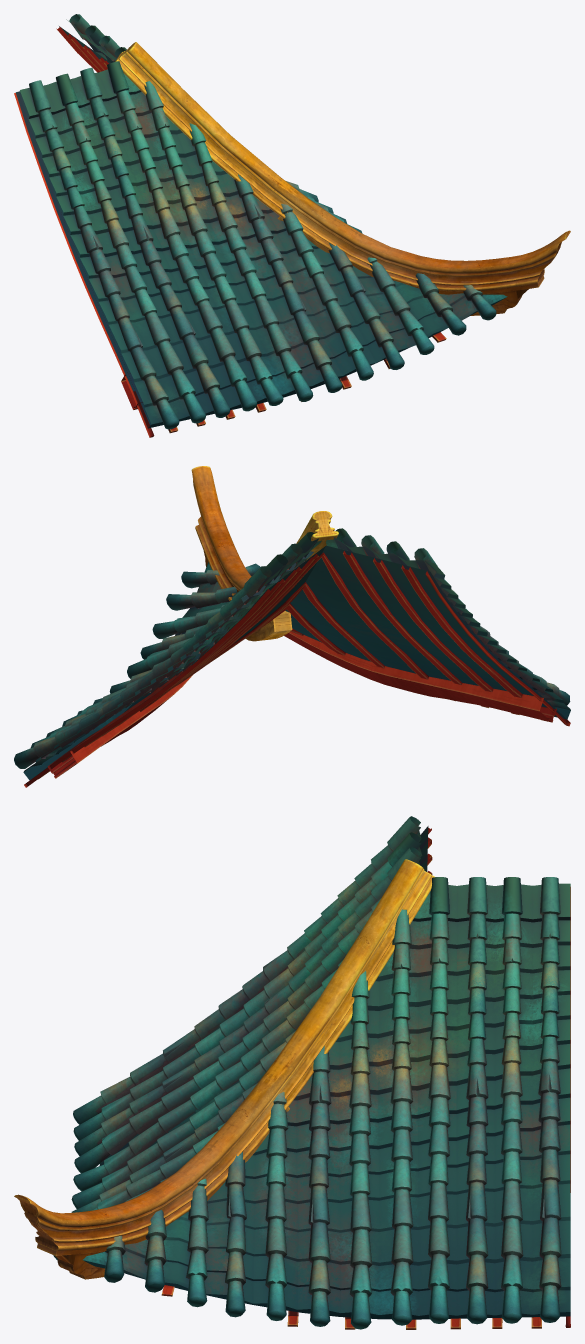
File: SM_Roof3x2_Angle.glb
3 views of the same model, one above another, from view 1: azimuth 30°, elevation 25°; view 2: azimuth 150°, elevation 25°; view 3: azimuth 270°, elevation 25° (orthographic). The views are drawn at different scales.
Visible parts, largest first — view 1: SM_Roof3x2_Angle_LOD0; view 2: SM_Roof3x2_Angle_LOD0; view 3: SM_Roof3x2_Angle_LOD0.
Boxes of the visible parts, box(x1,y1,x2,y2) form: SM_Roof3x2_Angle_LOD0: box(14, 14, 570, 437); SM_Roof3x2_Angle_LOD0: box(14, 466, 570, 787); SM_Roof3x2_Angle_LOD0: box(14, 816, 570, 1329).
Size of the model in its own units: 3.66 by 2.45 by 3.66.
Materials: 2 (2 with a texture image).
